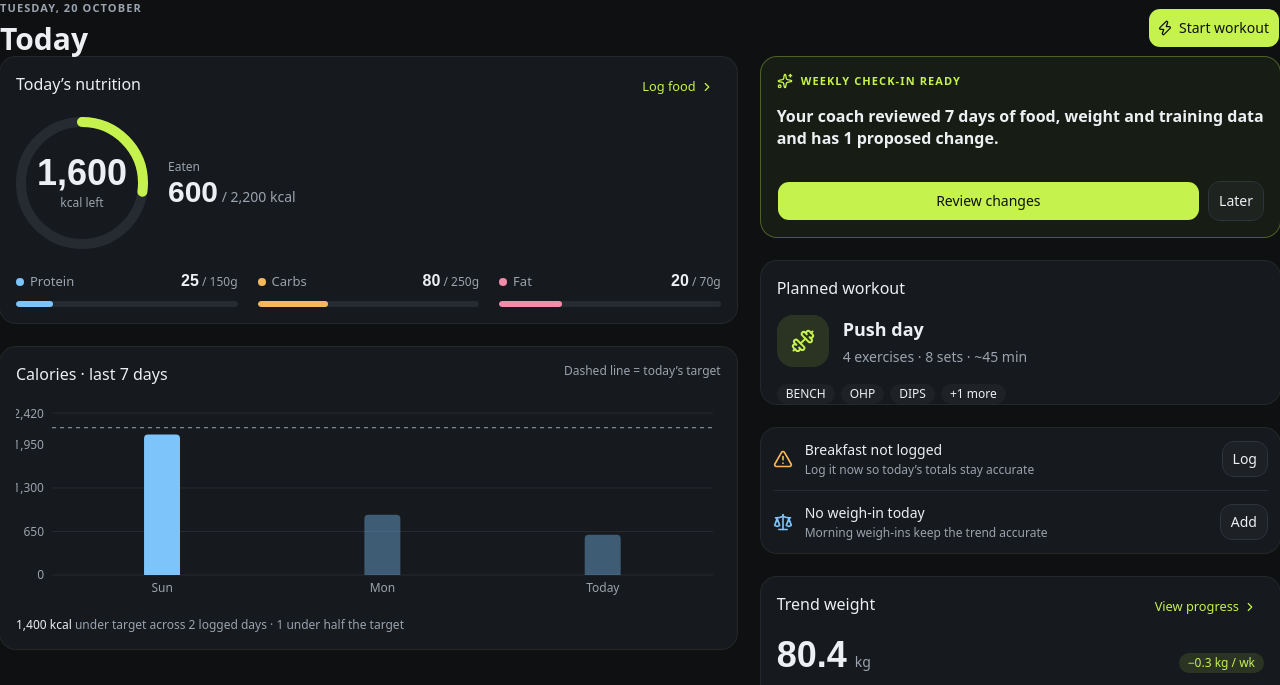
Test case: HomePage › adds today's weigh-in from the nudge
Click the button with aria-label "Add today’s weigh-in". click: (1244, 522)
box: [1220,504,1268,540]
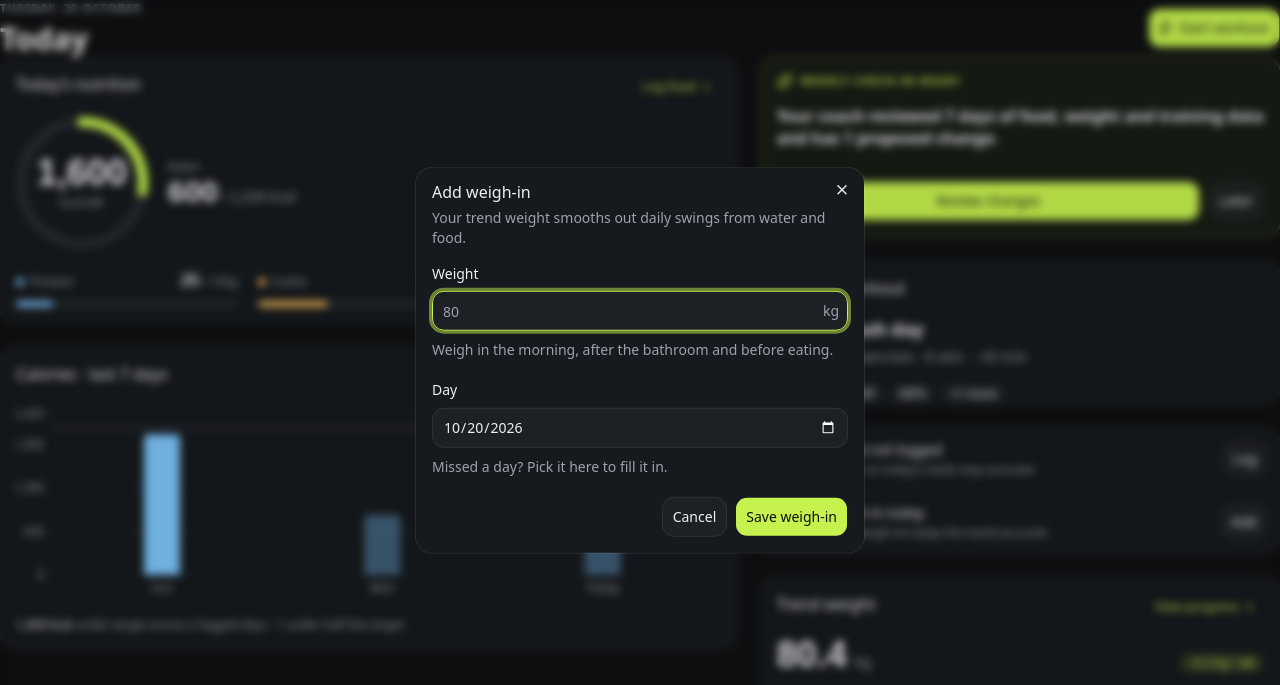
Type "79.8" into the field labelled "Weight". click: (628, 311)
box: [433,295,823,327]
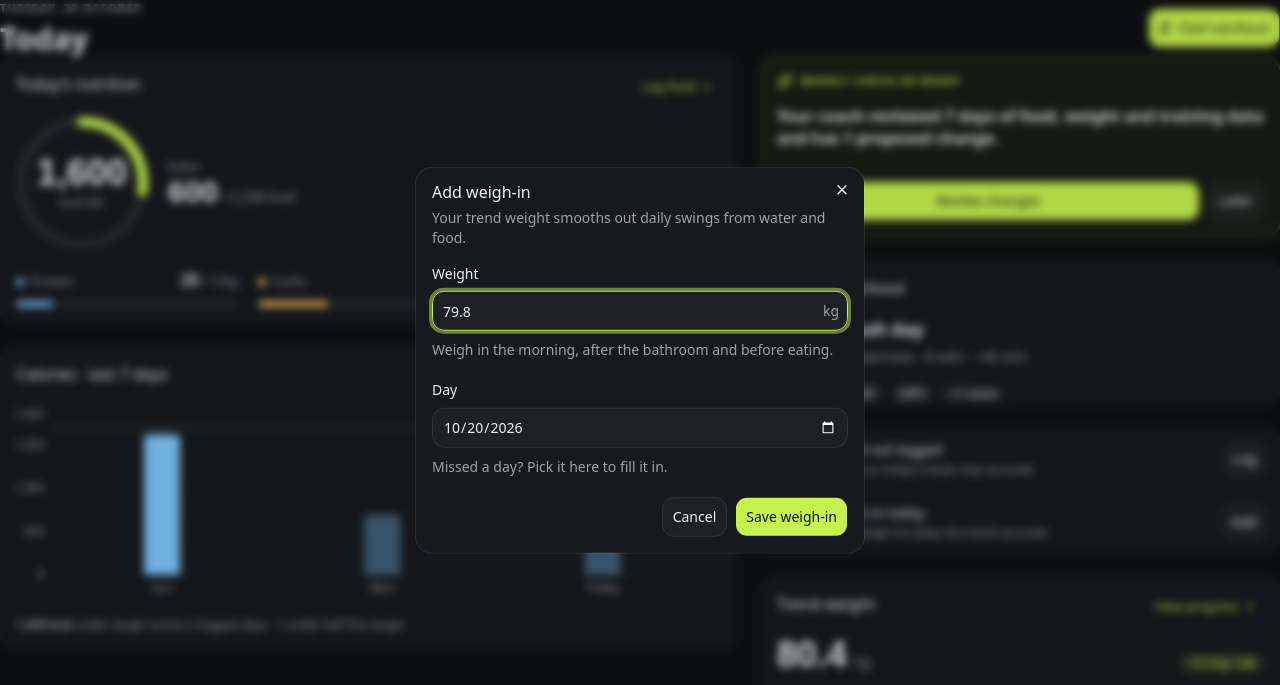
Click the button "Save weigh-in". click: (792, 516)
box: [735,496,848,536]
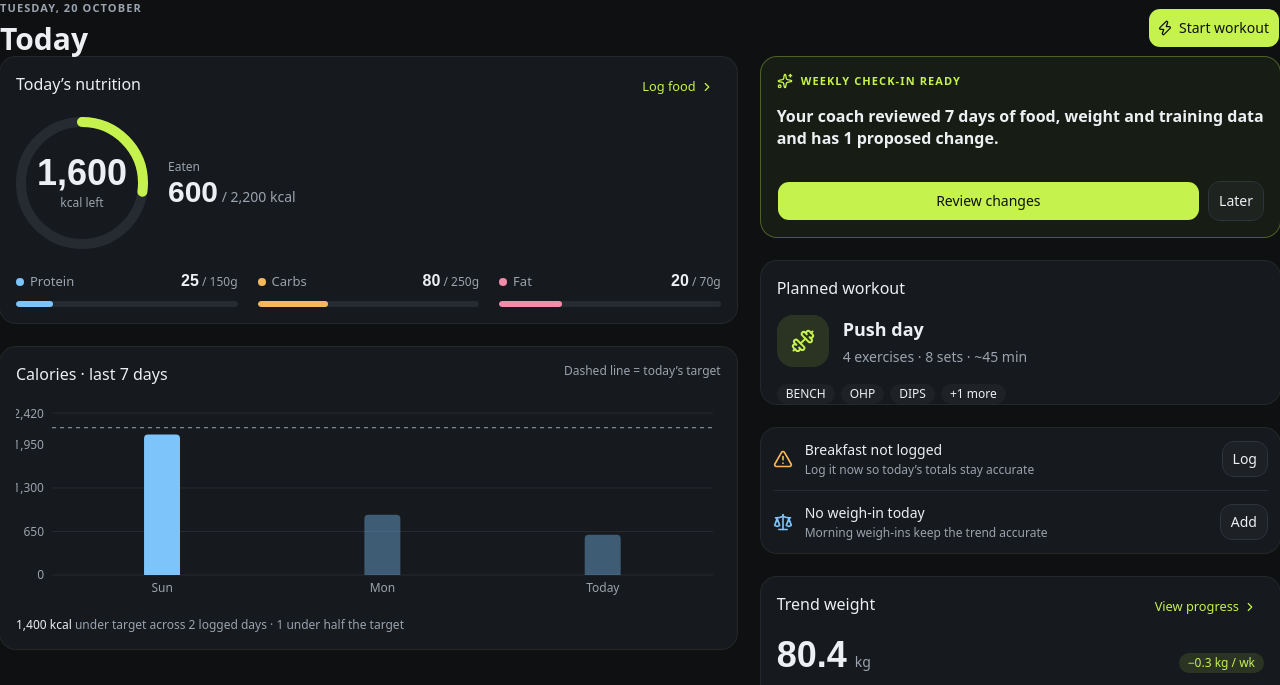
Expected: the dialog is gone
